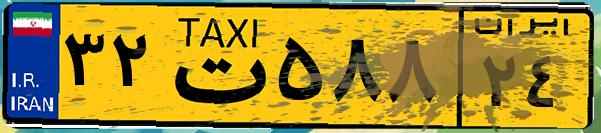2: (475, 38, 525, 113), (110, 28, 158, 98)
3: (57, 26, 110, 100)
4: (525, 38, 570, 115)
5: (270, 28, 330, 110)
8: (385, 28, 445, 110), (330, 28, 385, 110)
ت: (158, 12, 270, 120)
